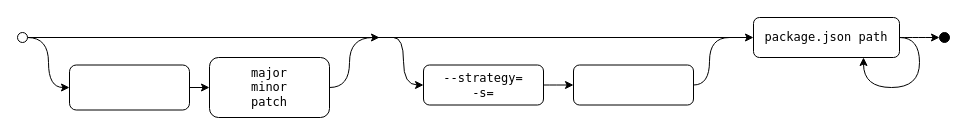
Some shapes in this 967 by 135 pixel diagram are drawn without their labels. Here are the shapes that lost their labels. From the top down, the centre of each, then its label:
At (x=129, y=87): "--part= -p=".
At (x=633, y=84): "highest separate".
